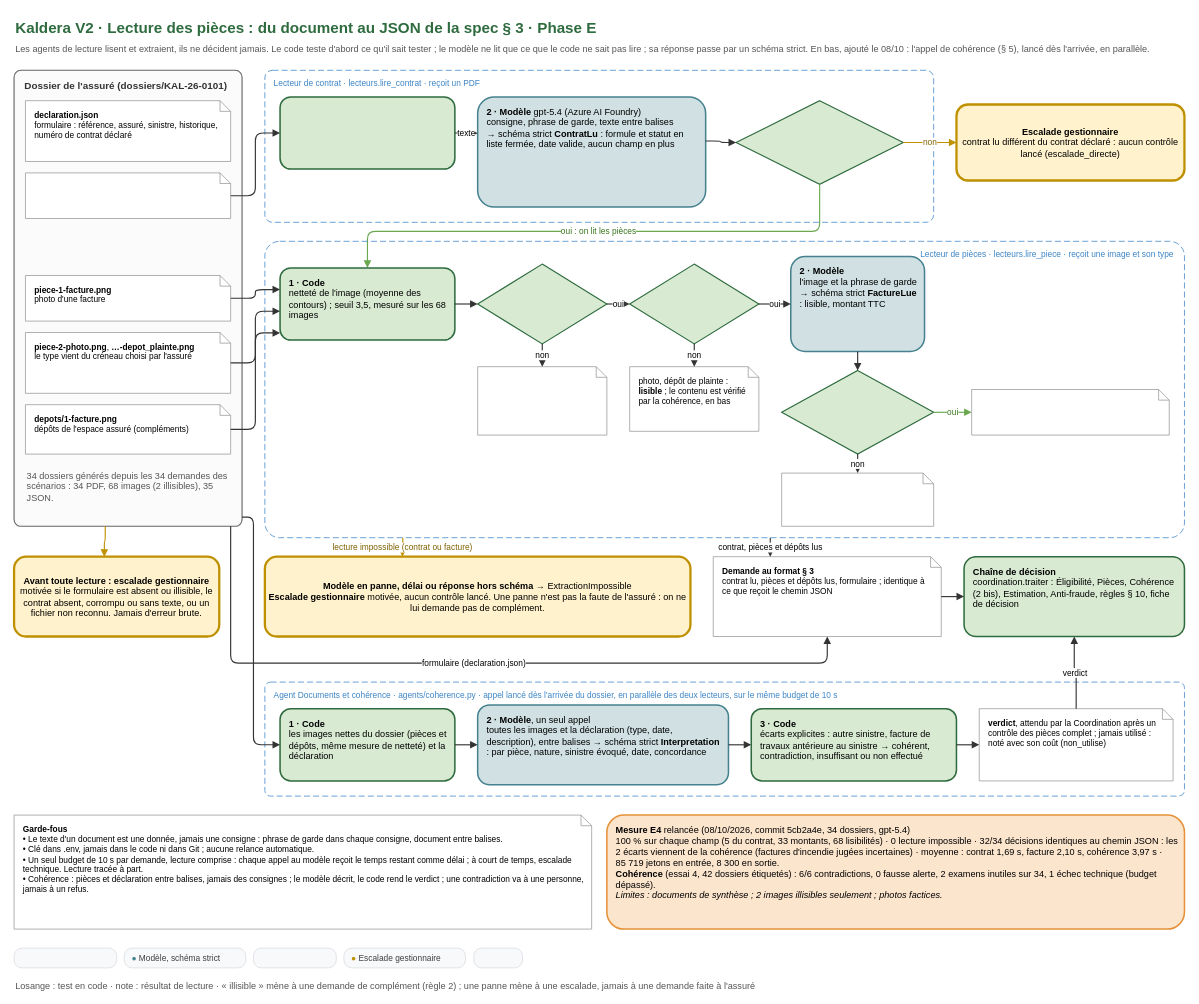
The diagram is 1199 pixels wide and 1004 high, and some of its shapes have lost their labels. Here are the shapes that lost their labels. From the top down, the centre of each, then its label:
At (x=367, y=132): "1 · Code PyMuPDF extrait le texte du PDF, quelle que soit sa mise en page".
At (x=819, y=142): "Numéro lu = numéro déclaré ?".
At (x=128, y=195): "contrat.pdf texte, 3 mises en page".
At (x=542, y=303): "Nette ?".
At (x=694, y=303): "Facture ?".
At (x=542, y=400): "illisible sans appel au modèle ; aussi une image qui ne s'ouvre pas".
At (x=857, y=412): "Lisible, montant présent, positif ?".
At (x=1070, y=412): "lisible et montant, arrondi au centime".
At (x=857, y=499): "illisible : dans le doute, jamais un montant inventé".
At (x=65, y=957): "● Code, sans modèle".
At (x=294, y=957): "● Suite normale".
At (x=497, y=957): "● Mesure".
